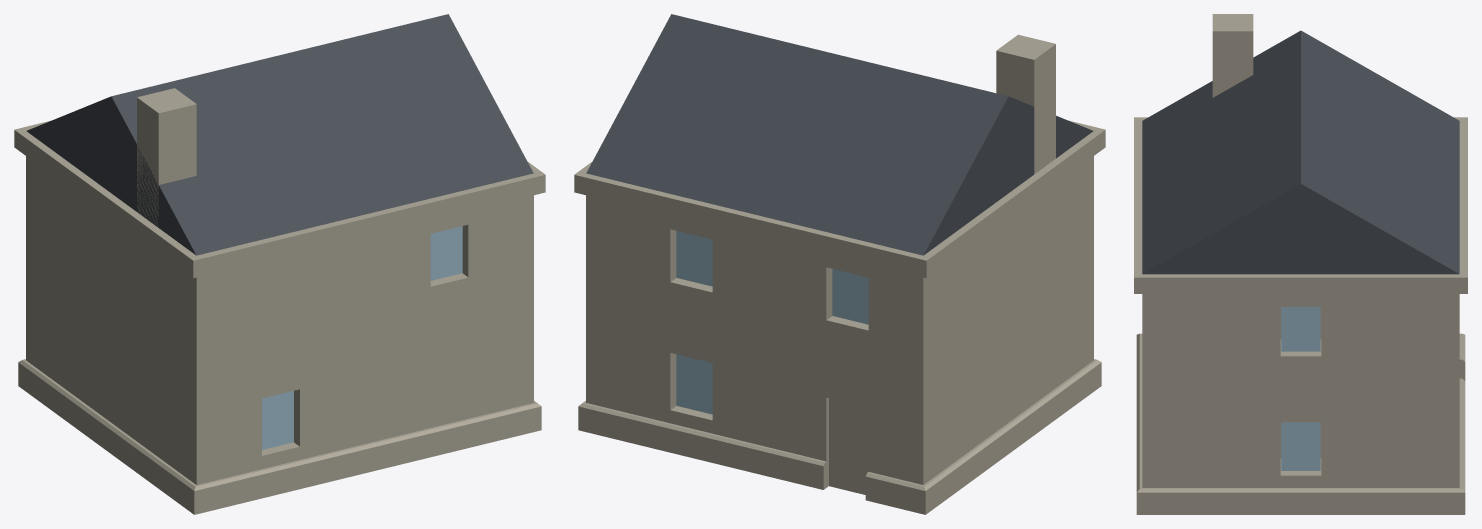
3 views of the same model, side by side, from view 1: azimuth 30°, elevation 25°; view 2: azimuth 150°, elevation 25°; view 3: azimuth 270°, elevation 25° (orthographic). The views are drawn at different scales.
Parts seen in each view (by area): view 1: body_stone, roof_slate, trim_stone, glass_glass (×2); view 2: body_stone, roof_slate, trim_stone, glass_glass (×3); view 3: roof_slate, body_stone, trim_stone, glass_glass (×2).
Part boxes in pixels (x1,y1,x2,y2): body_stone: [26, 88, 533, 484]; roof_slate: [26, 14, 533, 255]; trim_stone: [14, 120, 545, 514]; glass_glass (×2): [262, 226, 462, 449]; body_stone: [586, 34, 1093, 494]; roof_slate: [586, 14, 1093, 255]; trim_stone: [574, 120, 1105, 514]; glass_glass (×3): [676, 231, 868, 414]; roof_slate: [1142, 30, 1459, 274]; body_stone: [1142, 14, 1459, 487]; trim_stone: [1134, 117, 1467, 514]; glass_glass (×2): [1281, 307, 1320, 470].
Size of what is drawn, in the model's own units: 8.36 by 8.4 by 7.36.
